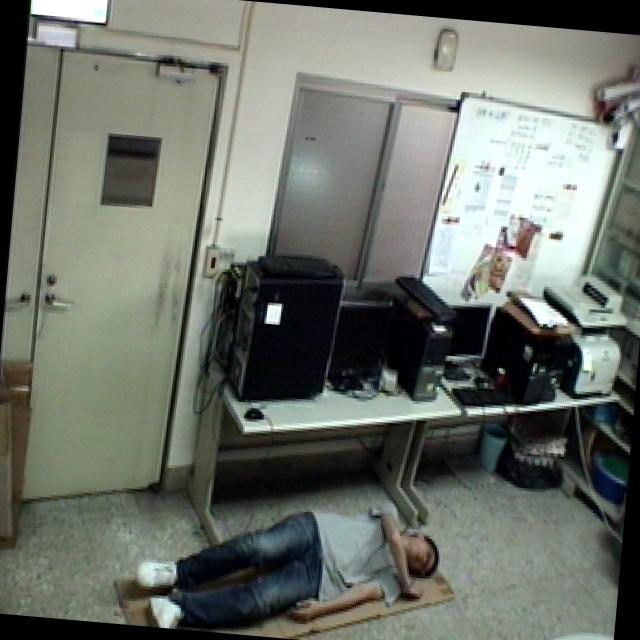lie: (127, 467, 452, 640)
